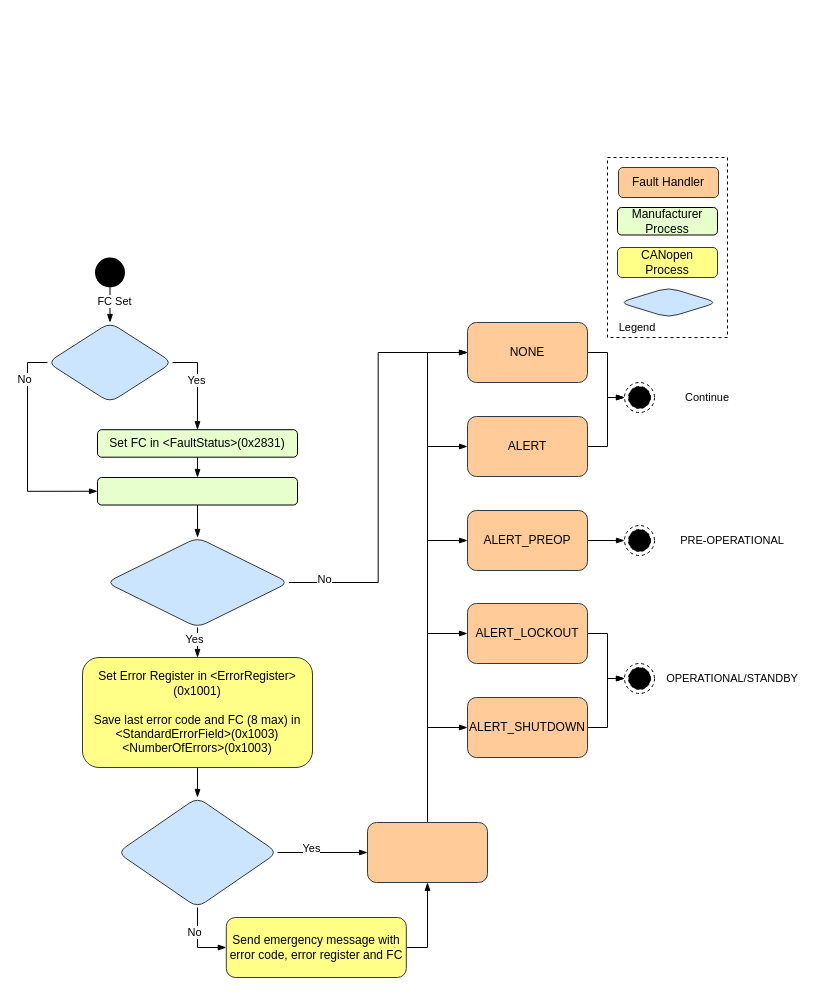
Some shapes in this 816 by 995 pixel diagram are drawn without their labels. Each missing label, with the box of its shape:
<FRV> = FRT[FC]: (366, 822, 488, 882)
Decision: (618, 286, 718, 318)
Fault Handler defined in <FaultReactionType>: (105, 536, 289, 628)
FC currently set?: (116, 796, 278, 908)
New FC?: (46, 322, 172, 402)
Set Details in <ErrorDetail>(0x2832): (96, 476, 298, 505)
